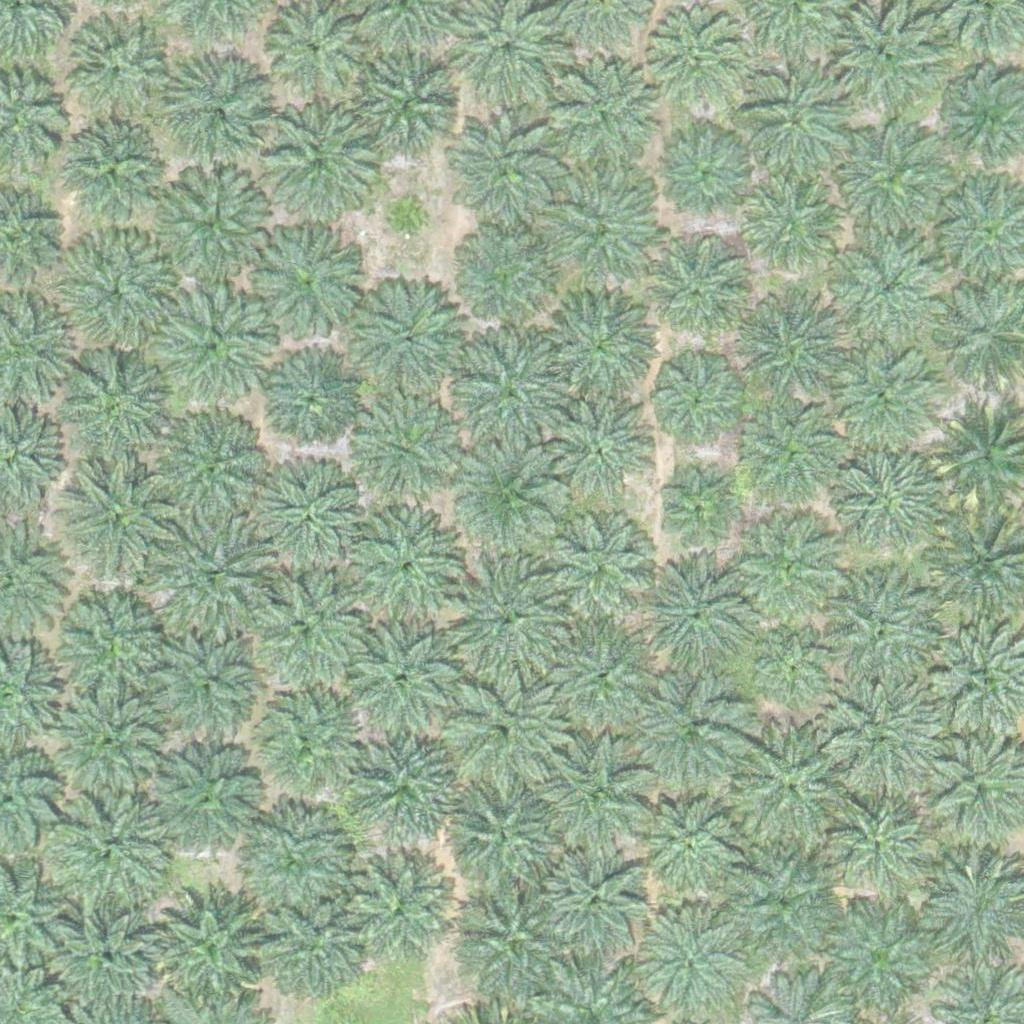Kelapa_Sawit: (450, 334, 575, 460), (149, 408, 274, 534), (56, 227, 181, 353), (55, 349, 180, 475), (55, 461, 180, 587), (52, 680, 177, 806), (51, 788, 176, 914), (233, 570, 358, 696), (146, 881, 271, 1007), (443, 555, 568, 681), (439, 670, 564, 796), (735, 726, 860, 852), (821, 573, 946, 699), (147, 280, 272, 405), (149, 163, 274, 288), (52, 586, 177, 711), (238, 681, 363, 806), (227, 799, 352, 924), (826, 448, 939, 562), (737, 291, 850, 405), (544, 621, 657, 735), (541, 514, 654, 628), (739, 63, 852, 176), (452, 442, 565, 555), (346, 396, 459, 509), (349, 278, 462, 391), (351, 56, 464, 169), (147, 744, 260, 857), (148, 630, 261, 743), (161, 515, 274, 628), (253, 889, 366, 1002), (540, 846, 653, 959), (537, 742, 650, 855), (827, 678, 940, 791), (544, 53, 656, 167), (545, 171, 657, 285), (451, 117, 563, 231), (636, 562, 748, 676), (638, 676, 750, 790), (726, 855, 838, 969), (821, 906, 933, 1020), (831, 232, 943, 345), (836, 130, 948, 243), (542, 286, 654, 399), (253, 219, 365, 332), (263, 465, 375, 578), (159, 58, 271, 171), (61, 13, 173, 126), (45, 904, 157, 1017), (344, 852, 456, 965), (351, 727, 463, 840), (343, 624, 455, 737), (348, 514, 460, 627), (448, 784, 560, 897), (455, 882, 567, 995), (644, 14, 744, 115), (551, 400, 651, 501), (456, 224, 556, 325), (270, 114, 370, 215), (263, 351, 363, 452), (61, 123, 161, 224), (644, 911, 744, 1012), (738, 524, 838, 625), (835, 343, 935, 443), (741, 181, 841, 281), (743, 403, 843, 503), (637, 794, 737, 894), (830, 790, 930, 890), (654, 359, 742, 447), (656, 254, 744, 342), (664, 134, 751, 222), (657, 474, 732, 550), (759, 633, 834, 709), (382, 195, 432, 245)
